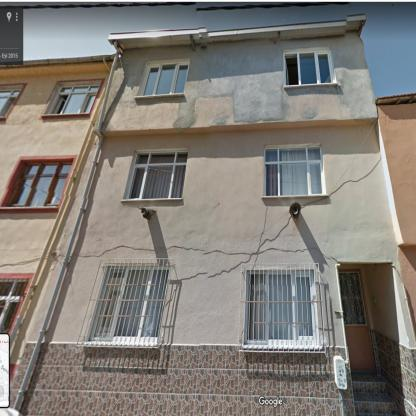door: (340, 271, 375, 373)
window: (87, 264, 169, 344), (246, 271, 317, 343), (2, 158, 74, 206), (264, 145, 325, 196), (124, 152, 188, 199), (44, 80, 101, 113), (140, 61, 190, 96), (1, 279, 27, 332), (298, 49, 334, 85), (1, 86, 24, 117)
